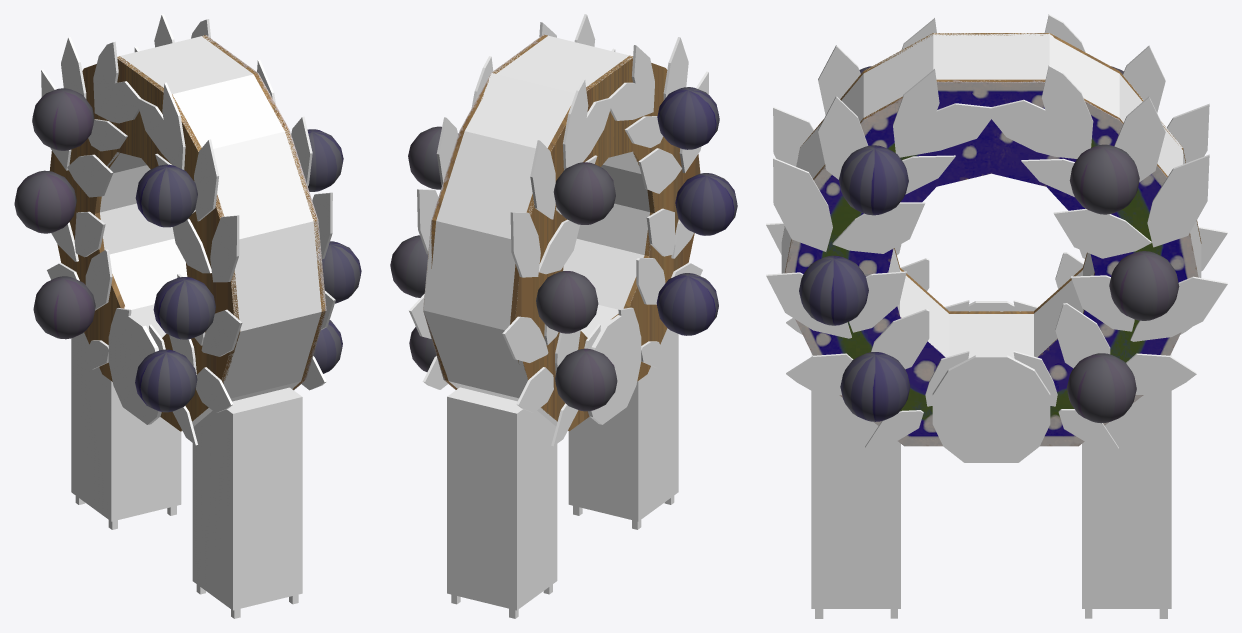
Rendered from objects_un_dlc0_c01gate02.gltf.
3 views of the same model, side by side, from view 1: azimuth 30°, elevation 25°; view 2: azimuth 150°, elevation 25°; view 3: azimuth 270°, elevation 25° (orthographic). The views are drawn at different scales.
Parts seen in each view (by area): view 1: um_objects_un_dlc0_c01gate02_model_lod0Shape:objects_un_dlc0 (×4), um_objects_un_dlc0_c01gate02_model_lod1Shape:objects_un_dlc0, um_objects_un_dlc0_c01gate02_model_lod2Shape:objects_un_dlc0; view 2: um_objects_un_dlc0_c01gate02_model_lod0Shape:objects_un_dlc0 (×4), um_objects_un_dlc0_c01gate02_model_lod1Shape:objects_un_dlc0, um_objects_un_dlc0_c01gate02_model_lod2Shape:objects_un_dlc0; view 3: um_objects_un_dlc0_c01gate02_model_lod0Shape:objects_un_dlc0 (×4), um_objects_un_dlc0_c01gate02_model_lod1Shape:objects_un_dlc0, um_objects_un_dlc0_c01gate02_model_lod2Shape:objects_un_dlc0.
Boxes of the visible parts, x1,y1,x2,y2 form: um_objects_un_dlc0_c01gate02_model_lod0Shape:objects_un_dlc0 (×4): (14,14,361,618); um_objects_un_dlc0_c01gate02_model_lod1Shape:objects_un_dlc0: (100,36,321,426); um_objects_un_dlc0_c01gate02_model_lod2Shape:objects_un_dlc0: (95,35,326,430); um_objects_un_dlc0_c01gate02_model_lod0Shape:objects_un_dlc0 (×4): (390,14,737,618); um_objects_un_dlc0_c01gate02_model_lod1Shape:objects_un_dlc0: (431,35,649,389); um_objects_un_dlc0_c01gate02_model_lod2Shape:objects_un_dlc0: (423,35,654,431); um_objects_un_dlc0_c01gate02_model_lod0Shape:objects_un_dlc0 (×4): (766,14,1227,618); um_objects_un_dlc0_c01gate02_model_lod1Shape:objects_un_dlc0: (781,35,1201,337); um_objects_un_dlc0_c01gate02_model_lod2Shape:objects_un_dlc0: (781,33,1201,358).
Bounding box in the file's own units: 4.13 × 9.94 × 7.41.
Materials: 5 (2 with a texture image).
